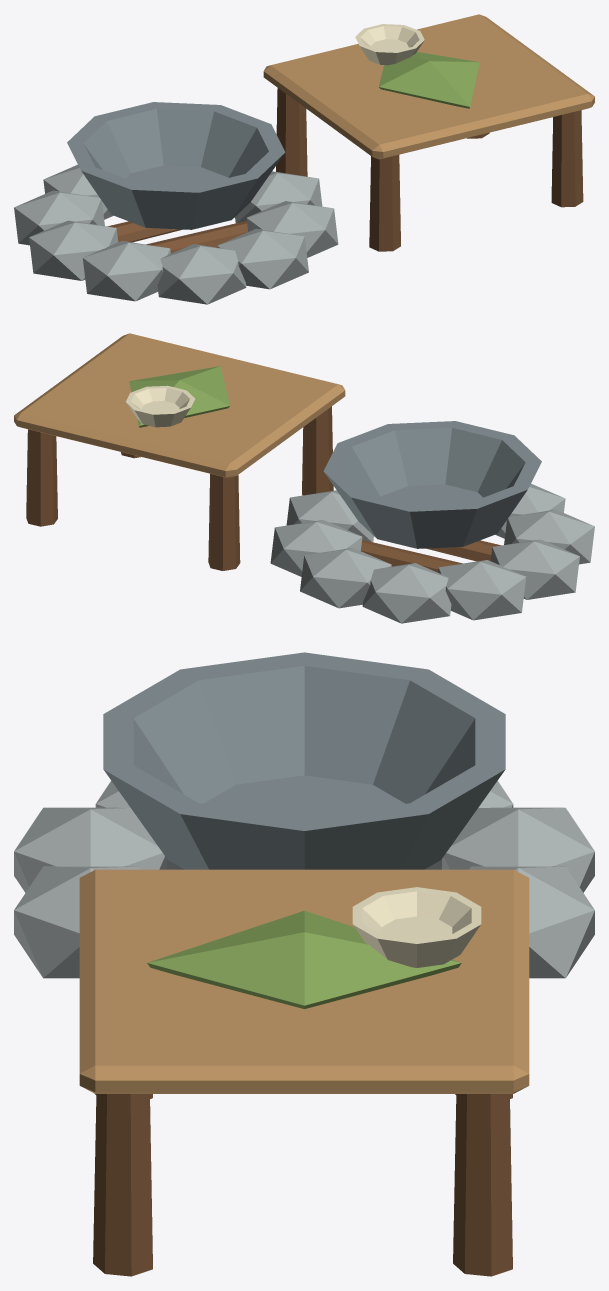
The model's file is CC_Kitchen.fbx.
3 renders of one model, top to bottom at view 1: azimuth 30°, elevation 25°; view 2: azimuth 150°, elevation 25°; view 3: azimuth 270°, elevation 25°, orthographic. The views are drawn at different scales.
Visible parts, largest first — view 1: Prep surface, Cooking pot, Hearth stone.007, Hearth stone.006, Serving leaf, Hearth stone.008, Hearth stone.005, Hearth stone.009, Hearth stone.004, Leg.016, Leg.018, Leg.017 (+5 smaller); view 2: Prep surface, Cooking pot, Hearth stone.003, Hearth stone.004, Hearth stone.002, Hearth stone.005, Hearth stone.001, Hearth stone.006, Leg.017, Leg.019, Serving leaf, Leg.016 (+5 smaller); view 3: Prep surface, Cooking pot, Serving leaf, Leg.018, Leg.019, Hearth stone.003, Hearth stone.007, Ingredient bowl, Hearth stone.002, Hearth stone.008.
Part boxes in pixels (left/top/right/bottom): Prep surface: left=263, top=14, right=594, bottom=159; Cooking pot: left=67, top=102, right=285, bottom=229; Hearth stone.007: left=157, top=244, right=246, bottom=304; Hearth stone.006: left=82, top=241, right=170, bottom=301; Serving leaf: left=378, top=52, right=479, bottom=108; Hearth stone.008: left=217, top=228, right=308, bottom=289; Hearth stone.005: left=29, top=220, right=118, bottom=280; Hearth stone.009: left=246, top=201, right=338, bottom=257; Hearth stone.004: left=14, top=190, right=104, bottom=245; Leg.016: left=369, top=155, right=400, bottom=251; Leg.018: left=551, top=110, right=583, bottom=207; Leg.017: left=276, top=88, right=307, bottom=176; Prep surface: left=14, top=333, right=345, bottom=478; Cooking pot: left=323, top=421, right=541, bottom=548; Hearth stone.003: left=362, top=563, right=451, bottom=623; Hearth stone.004: left=438, top=560, right=526, bottom=620; Hearth stone.002: left=300, top=547, right=391, bottom=608; Hearth stone.005: left=490, top=539, right=579, bottom=599; Hearth stone.001: left=270, top=520, right=362, bottom=576; Hearth stone.006: left=504, top=509, right=594, bottom=564; Leg.017: left=208, top=474, right=240, bottom=570; Leg.019: left=26, top=429, right=57, bottom=526; Serving leaf: left=129, top=366, right=230, bottom=427; Leg.016: left=302, top=406, right=333, bottom=495; Prep surface: left=79, top=869, right=529, bottom=1093; Cooking pot: left=103, top=652, right=505, bottom=869; Serving leaf: left=147, top=910, right=461, bottom=1008; Leg.018: left=93, top=1094, right=152, bottom=1276; Leg.019: left=453, top=1094, right=512, bottom=1276; Hearth stone.003: left=442, top=807, right=594, bottom=892; Hearth stone.007: left=14, top=807, right=166, bottom=892; Ingredient bowl: left=352, top=887, right=481, bottom=967; Hearth stone.002: left=469, top=866, right=594, bottom=978; Hearth stone.008: left=14, top=866, right=139, bottom=978.
Bounding box in the file's own units: 3.76 × 0.9565 × 1.94.
